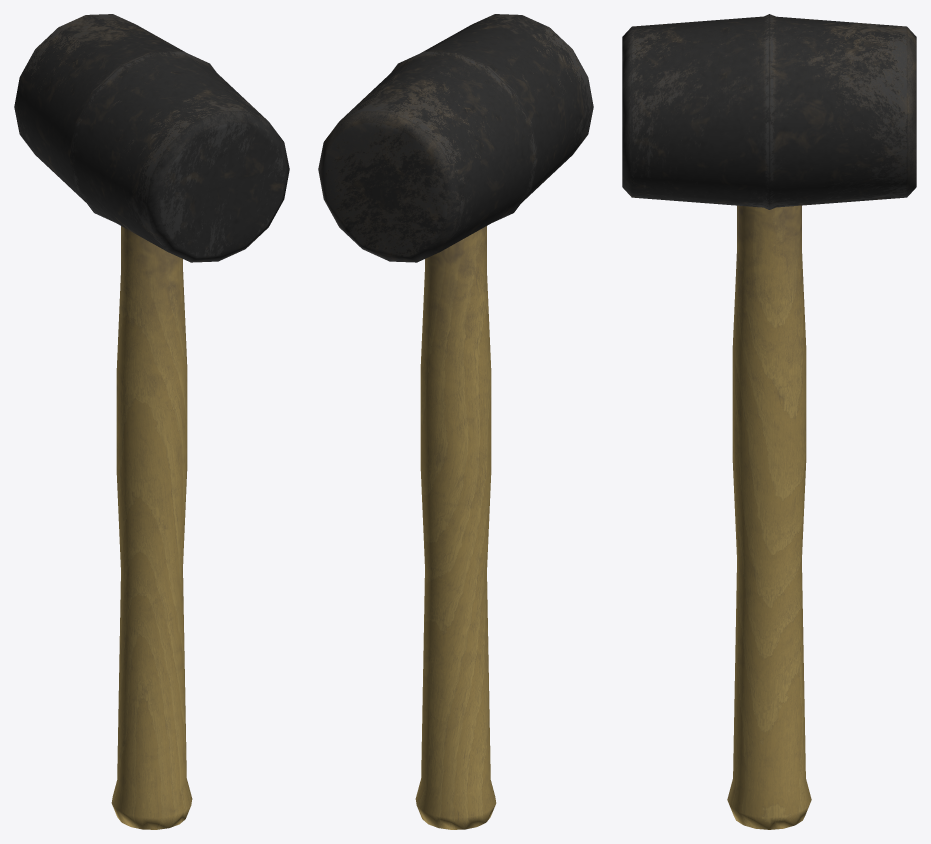
File: mallet.glb
3 views of the same model, side by side, from view 1: azimuth 30°, elevation 25°; view 2: azimuth 150°, elevation 25°; view 3: azimuth 270°, elevation 25° (orthographic). The views are drawn at different scales.
Parts seen in each view (by area): view 1: Mallet; view 2: Mallet; view 3: Mallet.
Boxes of the visible parts, x1,y1,x2,y2 form: Mallet: [14, 14, 289, 829]; Mallet: [318, 14, 593, 829]; Mallet: [622, 14, 916, 829].
Bounding box in the file's own units: 0.0769 × 0.342 × 0.1153.
Materials: 1 (1 with a texture image).
